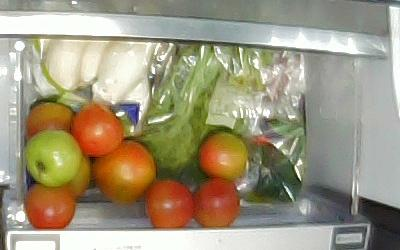tomato: (92, 139, 157, 203), (26, 129, 81, 186), (71, 104, 124, 155), (198, 130, 249, 180), (145, 179, 193, 228), (193, 176, 239, 227), (24, 183, 76, 228), (27, 103, 76, 141), (59, 153, 91, 200)
